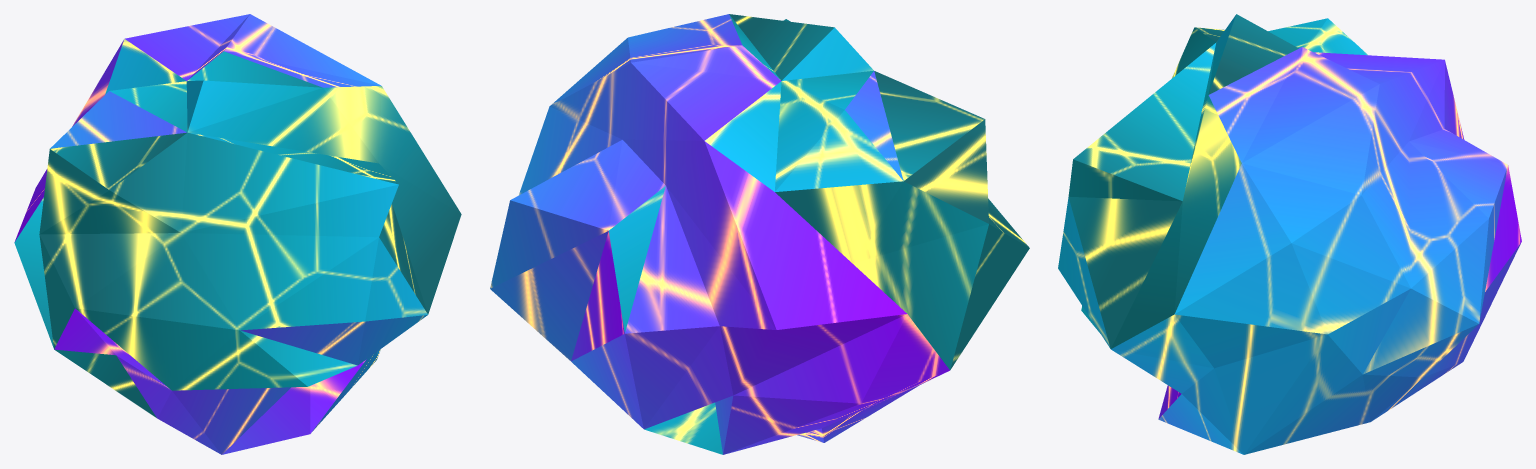
Rendered from stone-b.glb.
The picture shows the model from 3 angles, left to right: view 1: azimuth 30°, elevation 25°; view 2: azimuth 150°, elevation 25°; view 3: azimuth 270°, elevation 25°; orthographic projection. The views are drawn at different scales.
Visible parts, largest first — view 1: StoneB; view 2: StoneB; view 3: StoneB.
Part boxes in pixels (bbox=[...]): StoneB: bbox=[14, 14, 461, 454]; StoneB: bbox=[490, 14, 1029, 454]; StoneB: bbox=[1058, 14, 1521, 454].
Size of the model in its own units: 2.5 by 2.36 by 2.47.
1 material, 1 textured.
